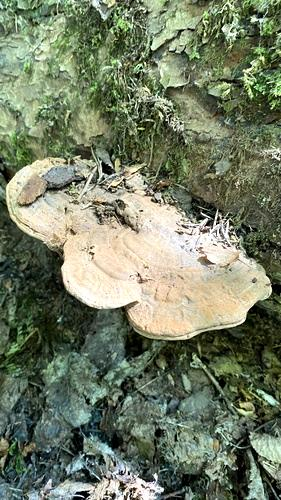Ganoderma - Fruit Body: (4, 154, 274, 339)
